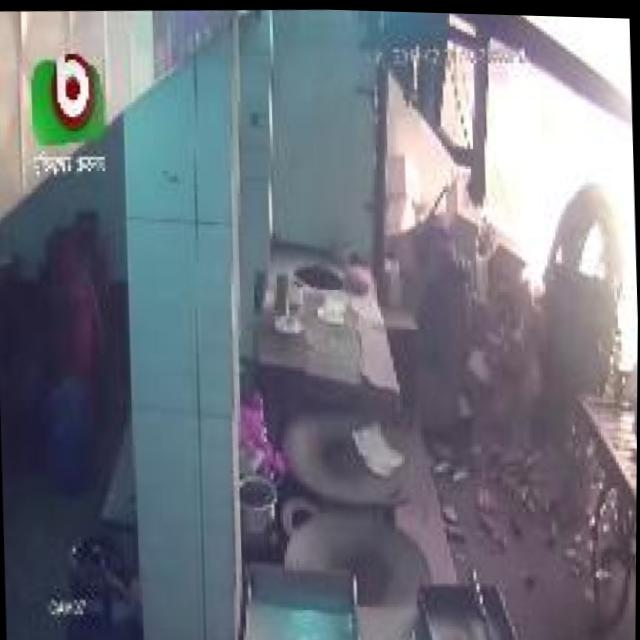fire: (483, 11, 638, 380), (392, 149, 427, 230)
